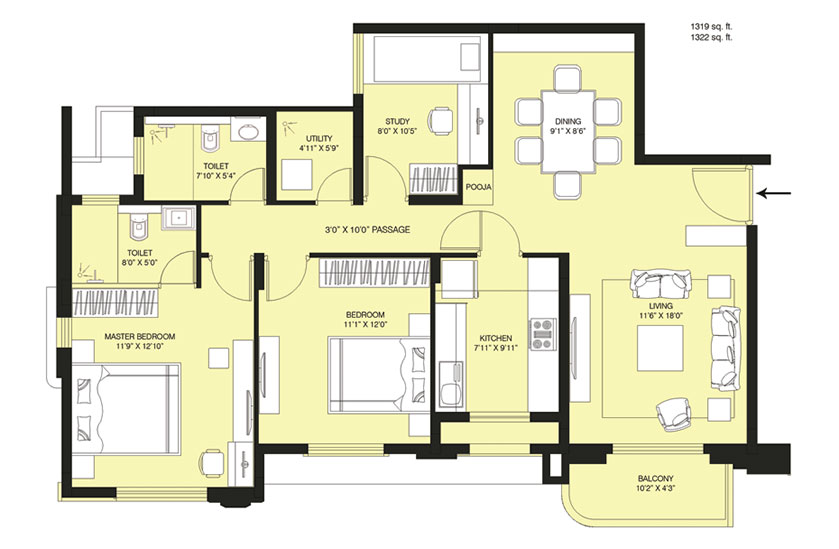door: (679, 165, 746, 224), (212, 259, 253, 302), (364, 150, 404, 191), (230, 163, 268, 201), (437, 214, 475, 252), (156, 245, 194, 283), (315, 160, 353, 198), (478, 208, 516, 246), (266, 267, 304, 305)
room: (484, 21, 762, 264), (48, 254, 266, 504), (555, 250, 762, 463), (251, 248, 440, 462), (426, 250, 574, 455), (350, 19, 496, 209), (130, 102, 276, 207), (128, 100, 274, 205), (126, 98, 272, 203), (268, 104, 368, 207)
window: (113, 482, 210, 507), (111, 480, 208, 505), (304, 436, 387, 460), (609, 438, 708, 457), (467, 403, 533, 427), (347, 30, 370, 98), (52, 312, 79, 351), (127, 133, 150, 177), (78, 190, 123, 207)
